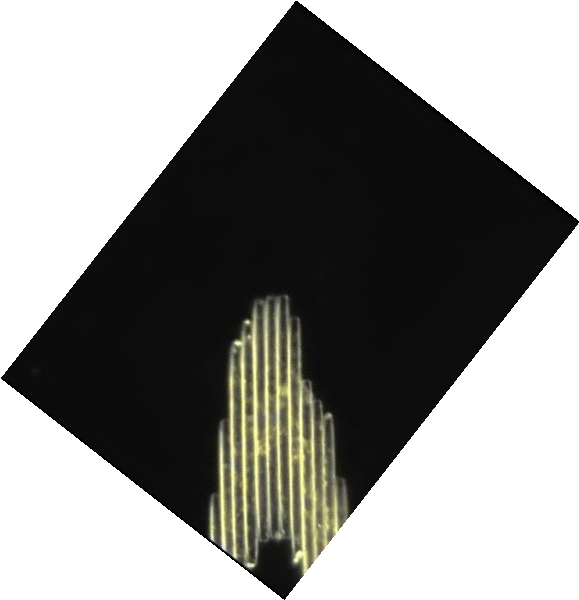bacilleria: (242, 319, 259, 569), (267, 293, 284, 542), (277, 294, 294, 543), (253, 297, 269, 540), (288, 313, 303, 567), (229, 342, 242, 561), (298, 377, 312, 573), (310, 397, 325, 555), (321, 410, 338, 544), (217, 419, 233, 553), (207, 496, 221, 546), (337, 478, 350, 528)
